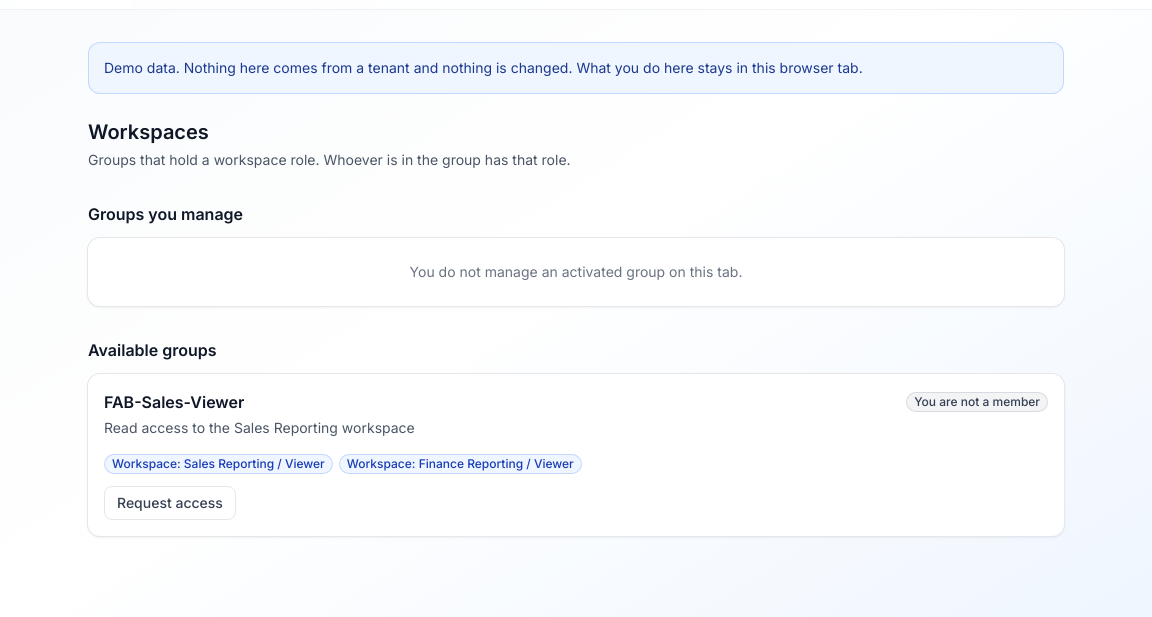
Test: requests in the views › lets a user ask for a requestable group and withdraw again
This screenshot has width=1152, height=617.
expect the heading "FAB-Sales-Viewer" is shown: met, box [104, 390, 244, 414]
Click the button "Request access": (170, 503) [104, 486, 236, 520]
(page scrolled)
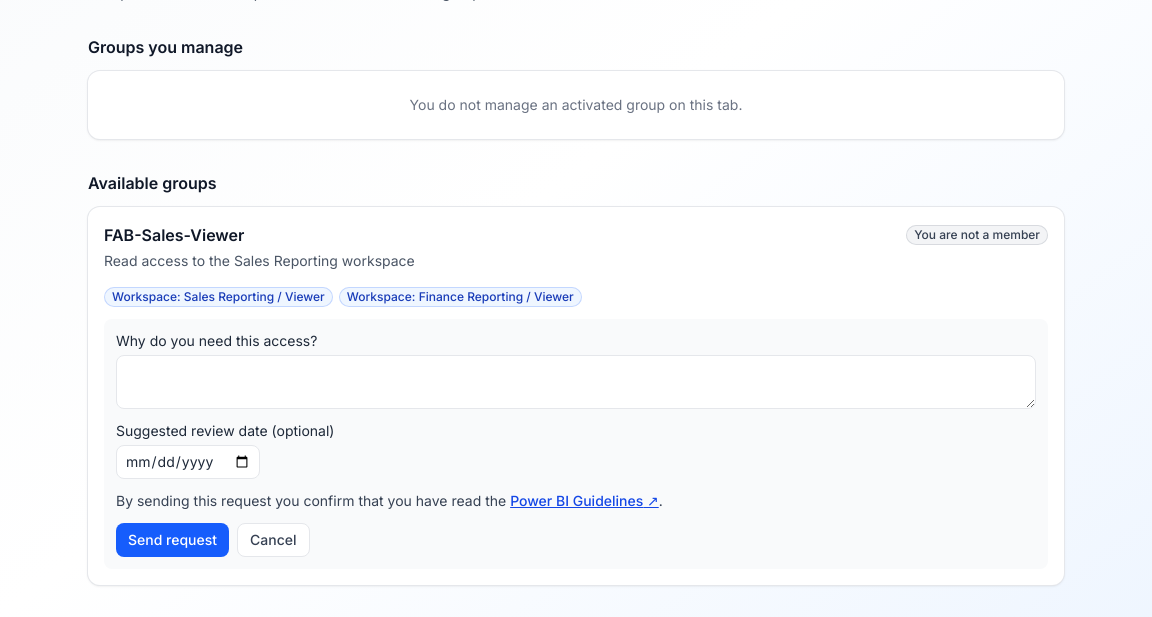
Click the button "Send request": (173, 540) [116, 523, 229, 557]
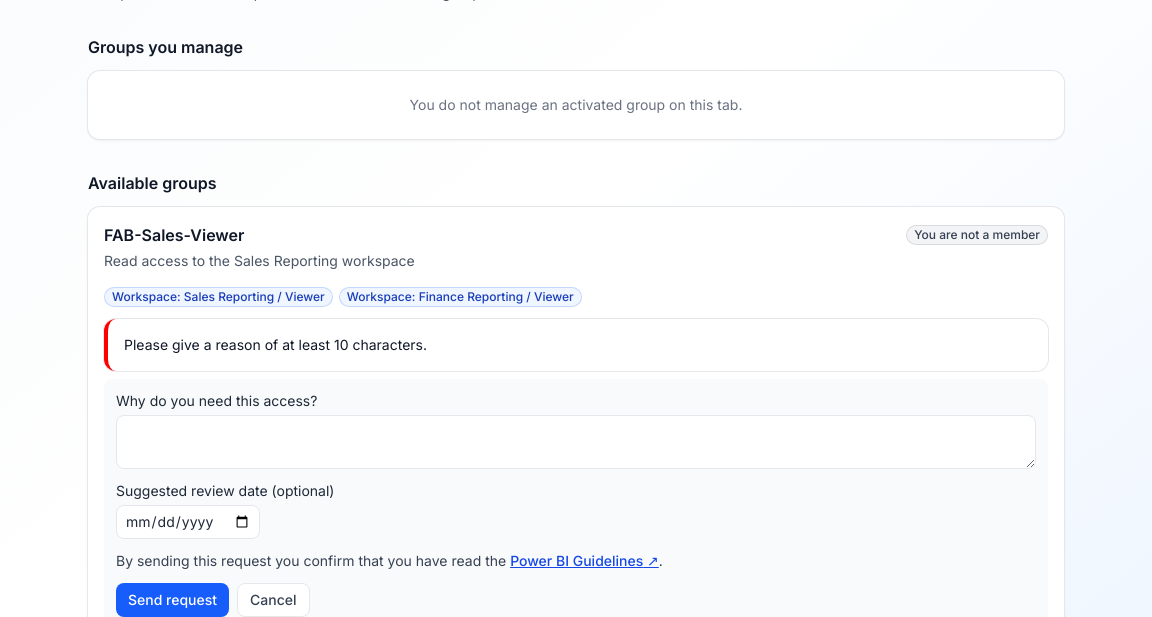
expect the text "Please give a reason of at least 10 characters." is shown: met, box [124, 336, 427, 353]
In the text box labelled "Why do you need this access?": (576, 442) [116, 415, 1036, 469], type "I work on the sales reports."
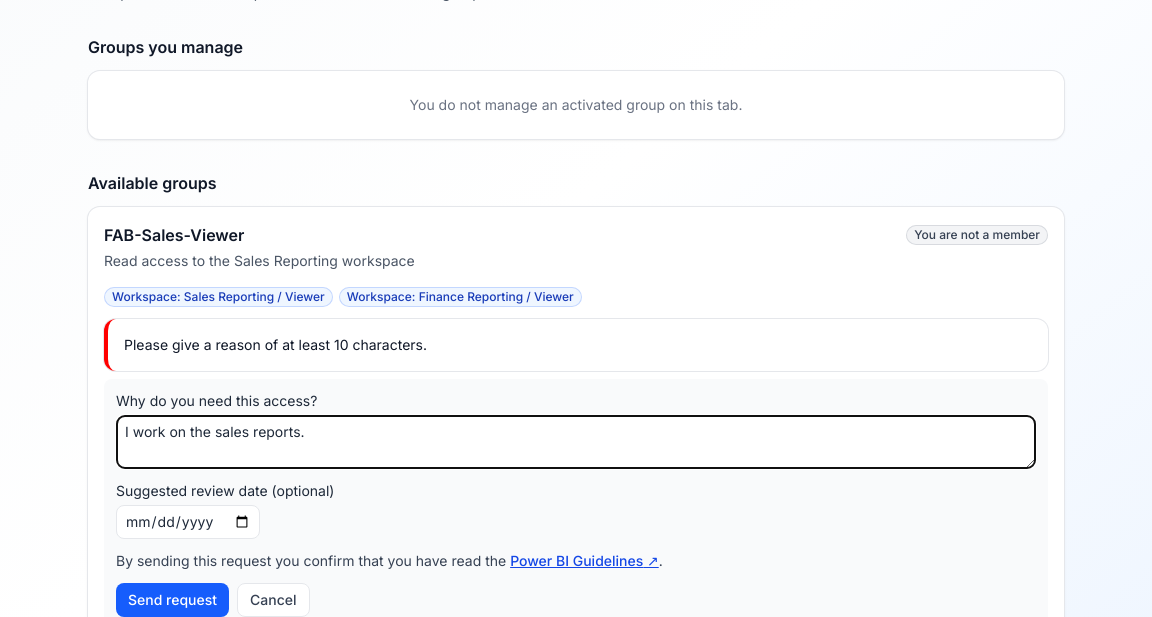
Click the button "Send request": (173, 600) [116, 583, 229, 616]
(page scrolled)
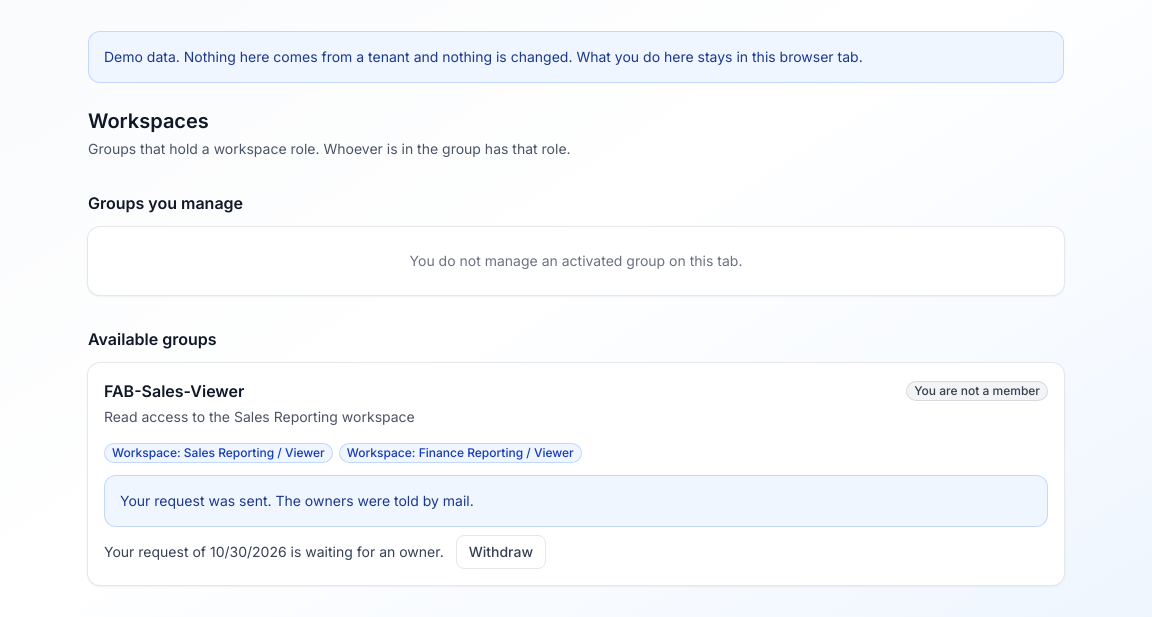
expect the text "Your request was sent. The owners were told by mail." is shown: met, box [120, 492, 474, 509]
expect the text "Your request of 10/30/2026 is waiting for an owner." is shown: met, box [104, 542, 444, 562]
Click the button "Withdraw": (501, 552) [456, 535, 546, 569]
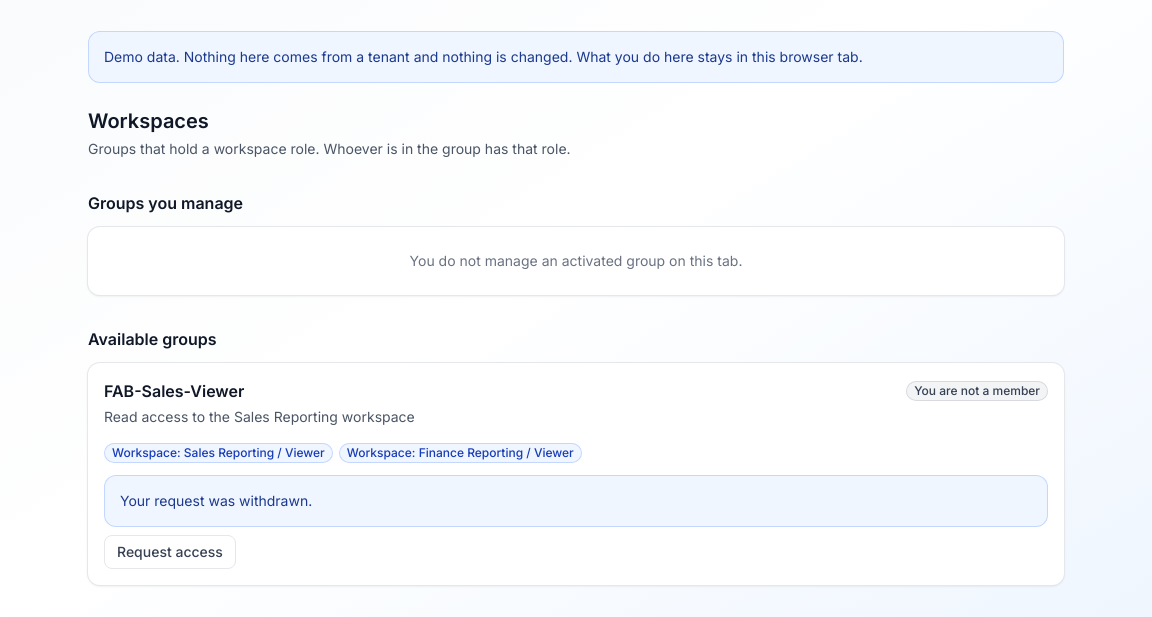
expect the text "Your request was withdrawn." is shown: met, box [120, 492, 312, 509]
